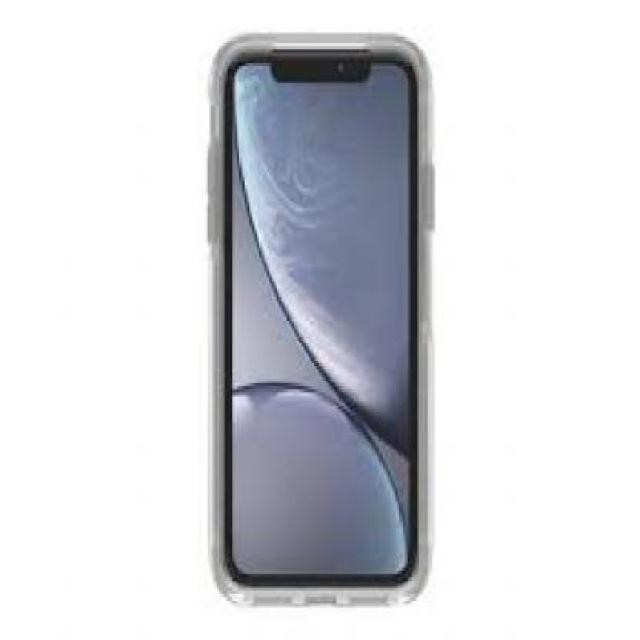mobile: (211, 34, 432, 608)
